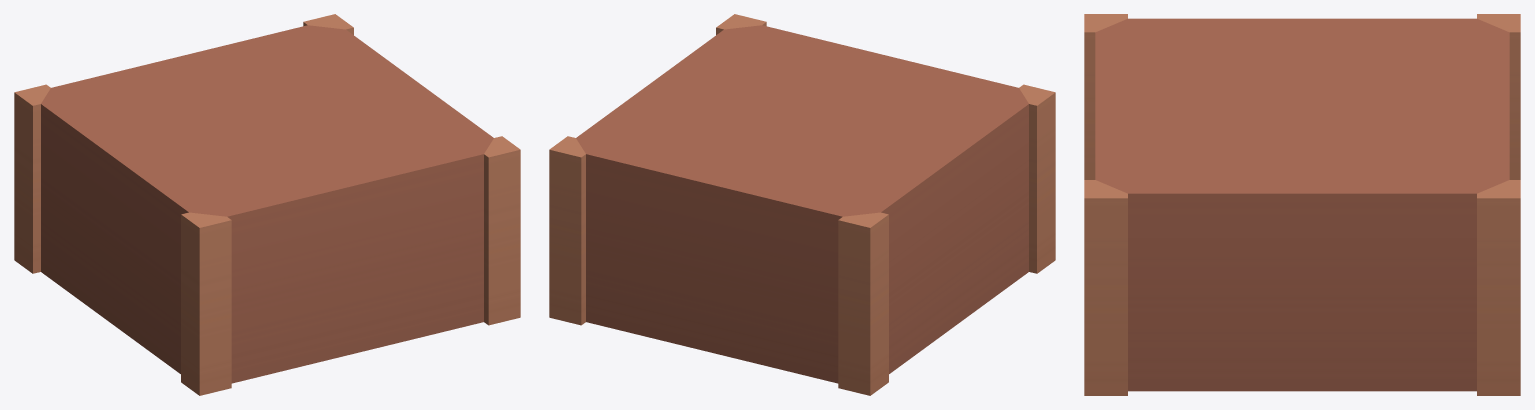
Rendered from wall-wood-block-half.fbx.
The picture shows the model from 3 angles, left to right: view 1: azimuth 30°, elevation 25°; view 2: azimuth 150°, elevation 25°; view 3: azimuth 270°, elevation 25°; orthographic projection. The views are drawn at different scales.
Visible parts, largest first — view 1: wall-wood-block-half; view 2: wall-wood-block-half; view 3: wall-wood-block-half.
Boxes of the visible parts, x1=… form: wall-wood-block-half: x1=14, y1=14, x2=520, y2=395; wall-wood-block-half: x1=549, y1=14, x2=1055, y2=395; wall-wood-block-half: x1=1084, y1=14, x2=1520, y2=395.
Size of the model in its own units: 100 by 50 by 100.
Materials: 1 (1 with a texture image).
